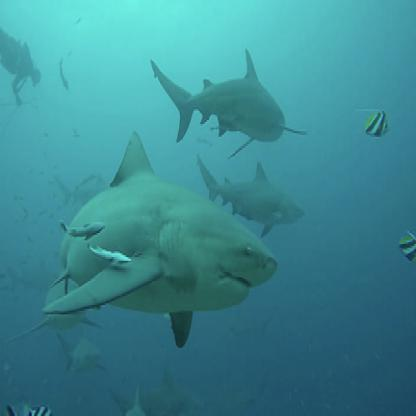shark: (40, 121, 286, 356), (149, 49, 295, 145), (192, 153, 310, 247)
